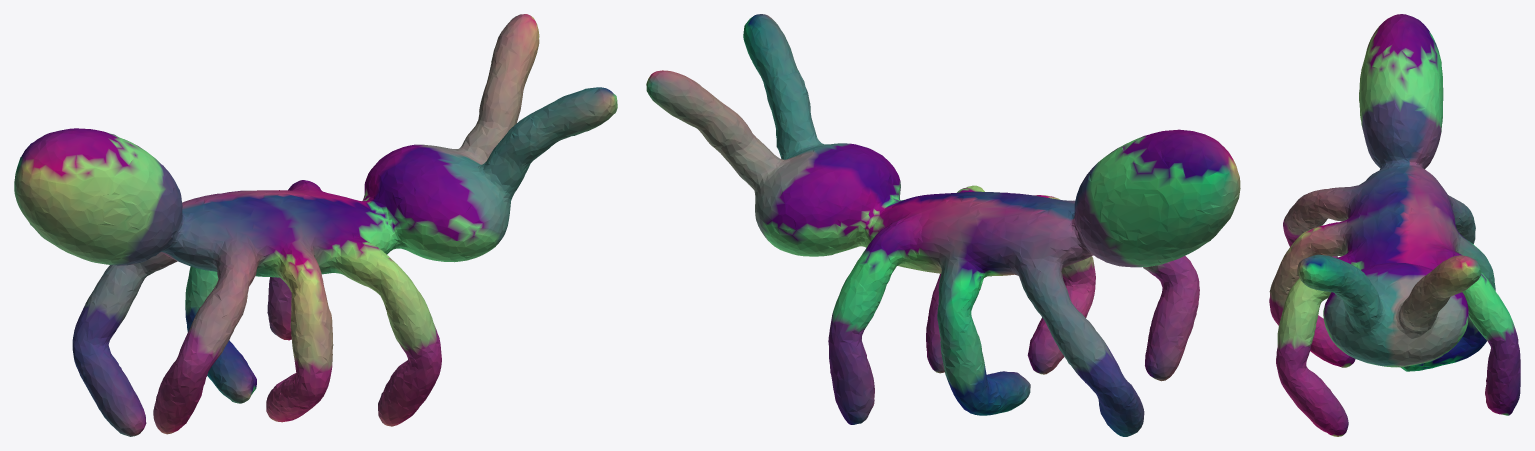
Rendered from ant-10.off.obj.
3 views of the same model, side by side, from view 1: azimuth 30°, elevation 25°; view 2: azimuth 150°, elevation 25°; view 3: azimuth 270°, elevation 25° (orthographic). The views are drawn at different scales.
Size of the model in its own units: 1.55 by 0.9016 by 0.6989.
